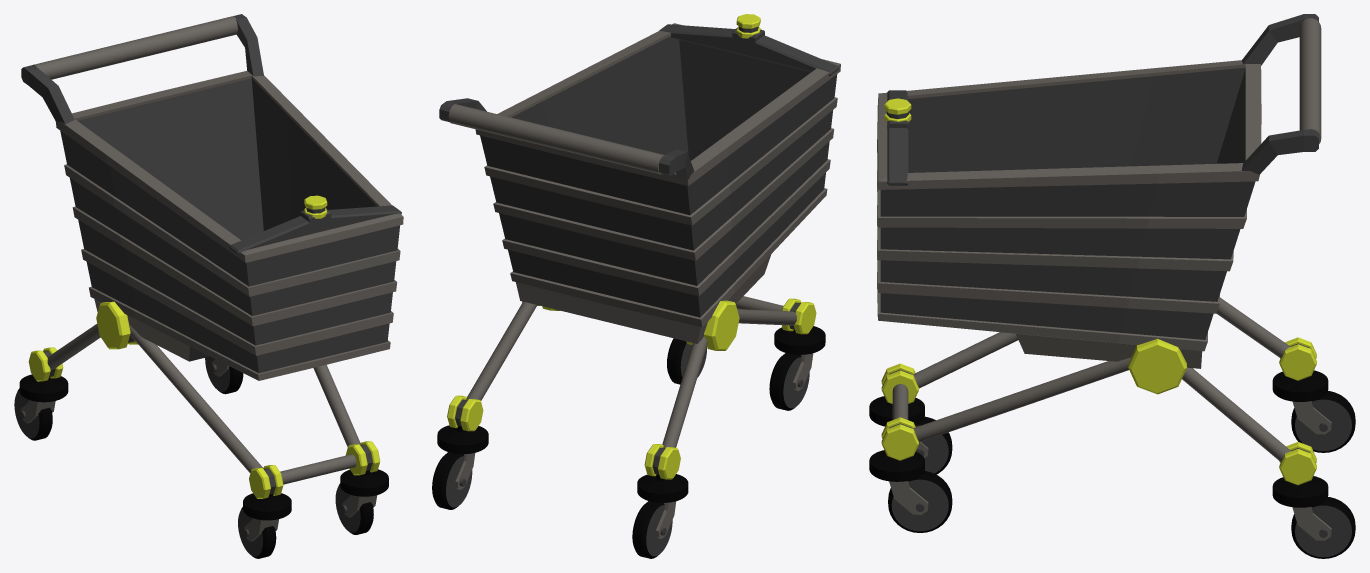
The model's file is cart.fbx.
3 views of the same model, side by side, from view 1: azimuth 30°, elevation 25°; view 2: azimuth 150°, elevation 25°; view 3: azimuth 270°, elevation 25° (orthographic). The views are drawn at different scales.
Parts seen in each view (by area): view 1: Cube.003; view 2: Cube.003; view 3: Cube.003.
Part boxes in pixels (left/top/right/bottom): Cube.003: left=14, top=14, right=403, bottom=558; Cube.003: left=432, top=14, right=840, bottom=558; Cube.003: left=869, top=14, right=1355, bottom=558.
Size of the model in its own units: 131 by 204 by 209.
